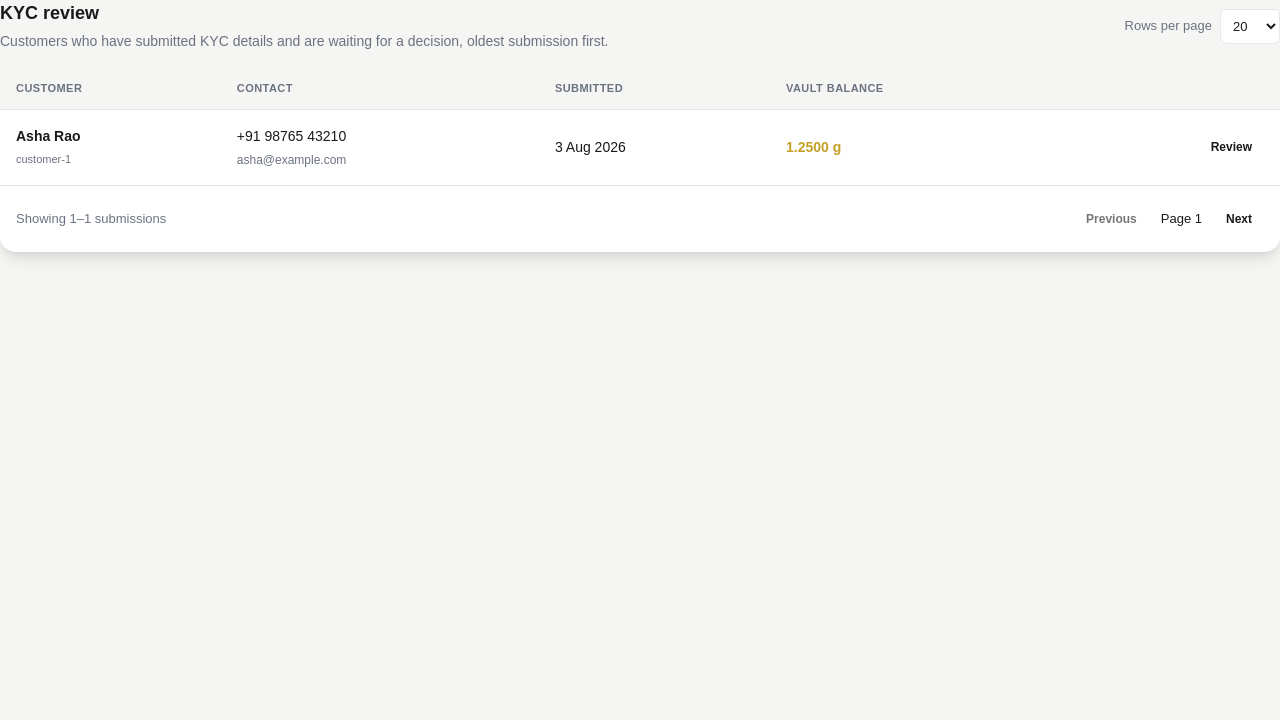
KYC review queue › opens the documents for the chosen customer
What coordinates should you click on to do the following:
click the button with aria-label "Review KYC for Asha Rao"
I would click on:
 (1231, 147)
Its box is [1199,127,1264,167].
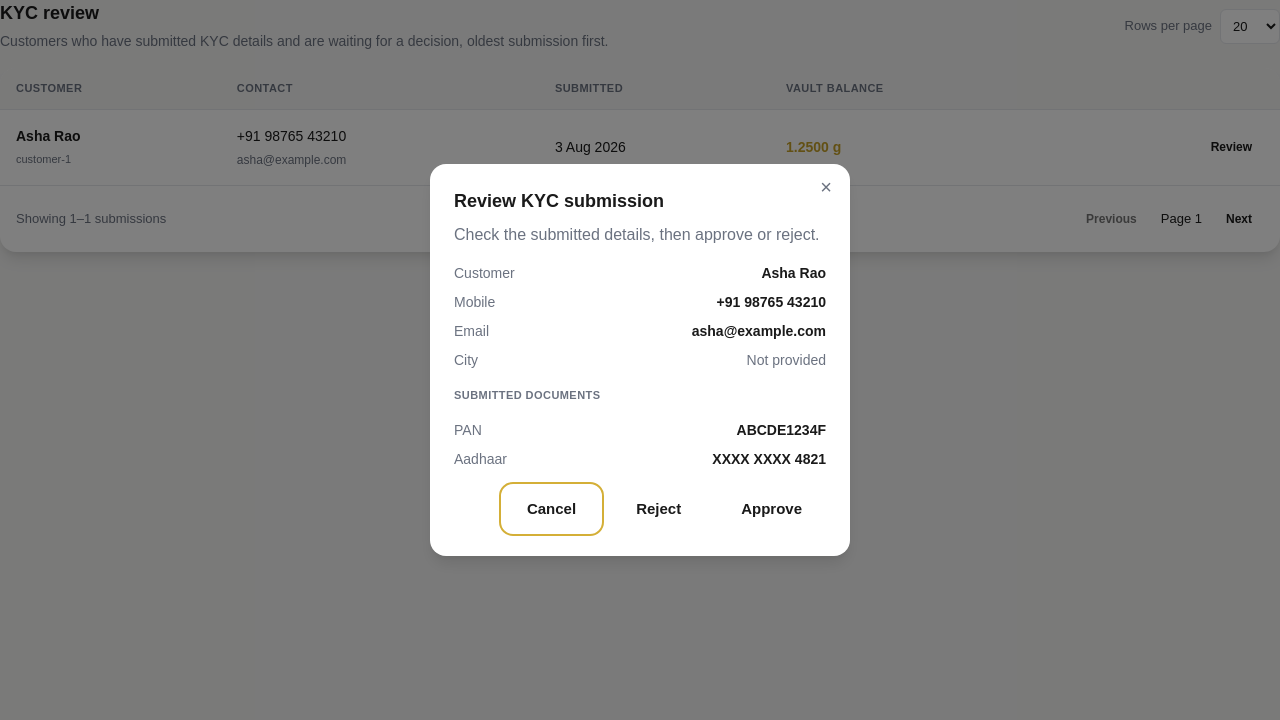
Expected: the dialog is shown, [430,164,850,556]
Expected: the text "ABCDE1234F" is shown, [736,420,826,440]
